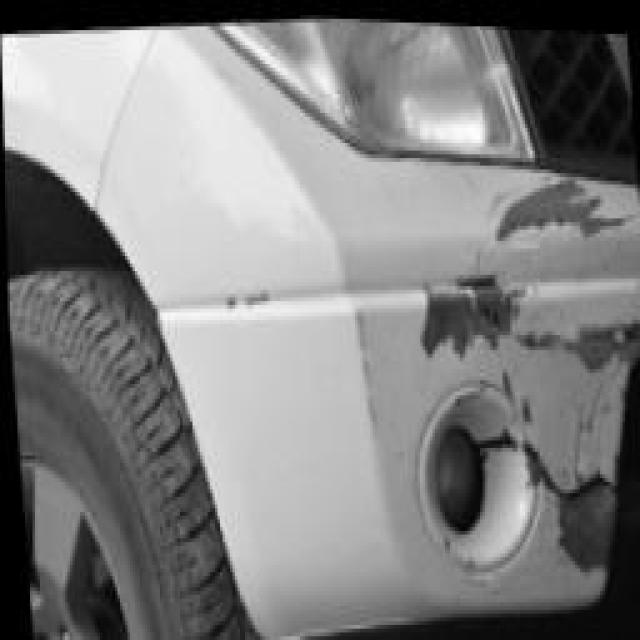Bumper: (400, 143, 640, 624)
